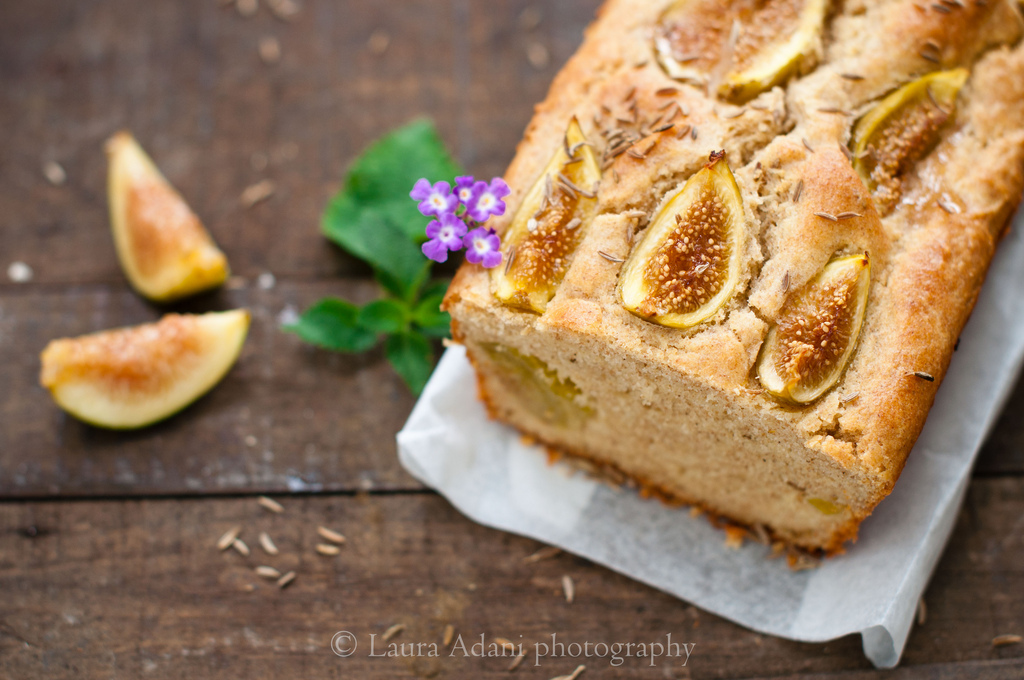slice of bread: (429, 1, 1024, 546)
